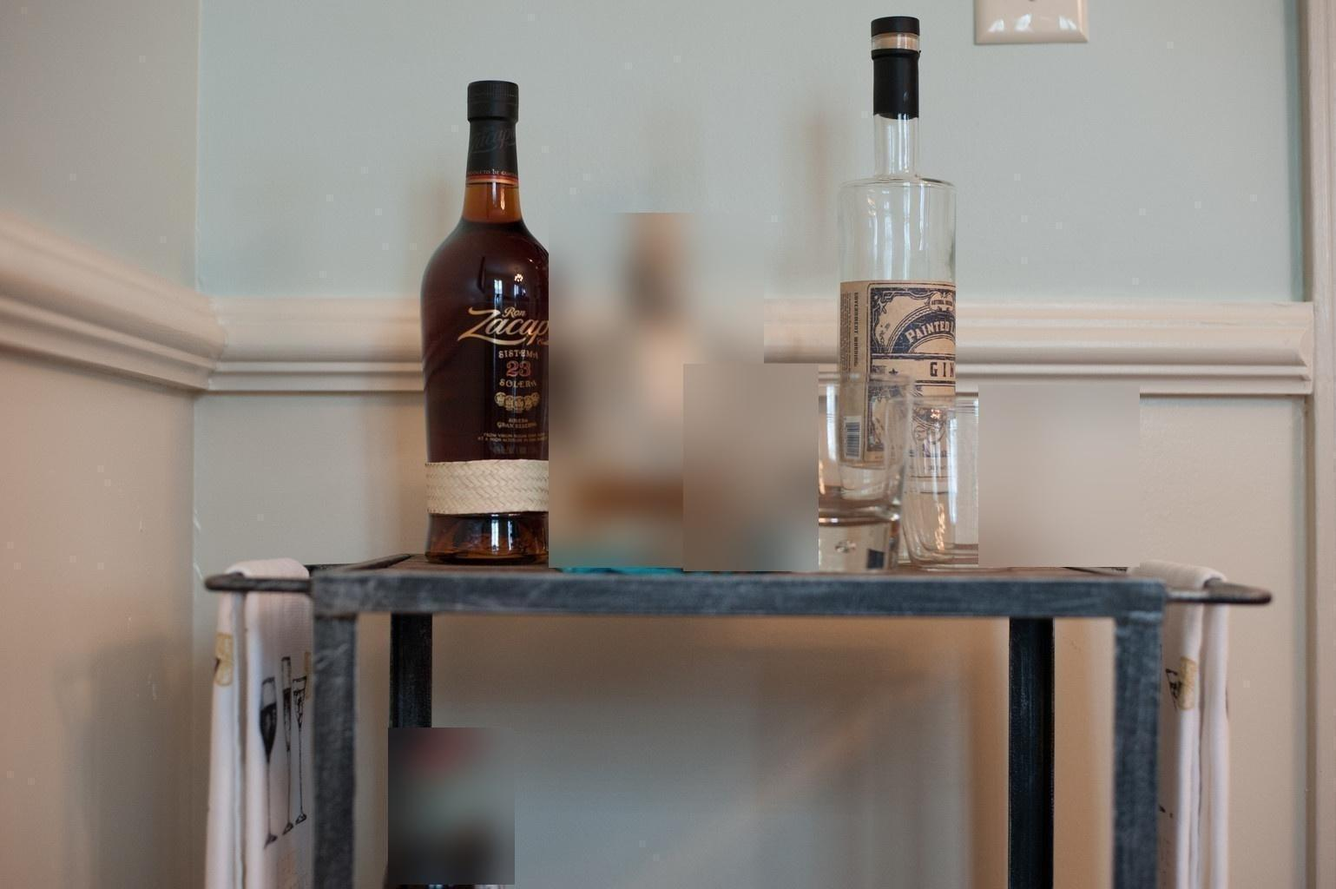bottle-glass: (418, 76, 565, 563), (827, 13, 966, 523)
